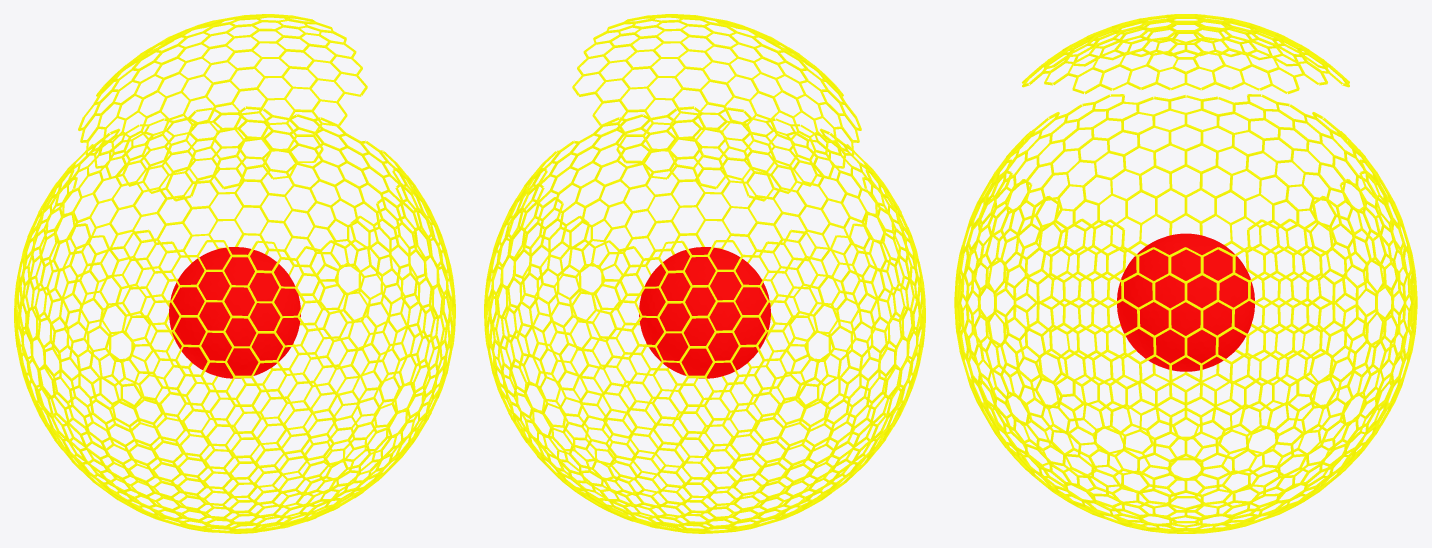
3 renders of one model, left to right at view 1: azimuth 30°, elevation 25°; view 2: azimuth 150°, elevation 25°; view 3: azimuth 270°, elevation 25°, orthographic. The views are drawn at different scales.
Size of the model in its own units: 2.01 by 2.36 by 2.01.
